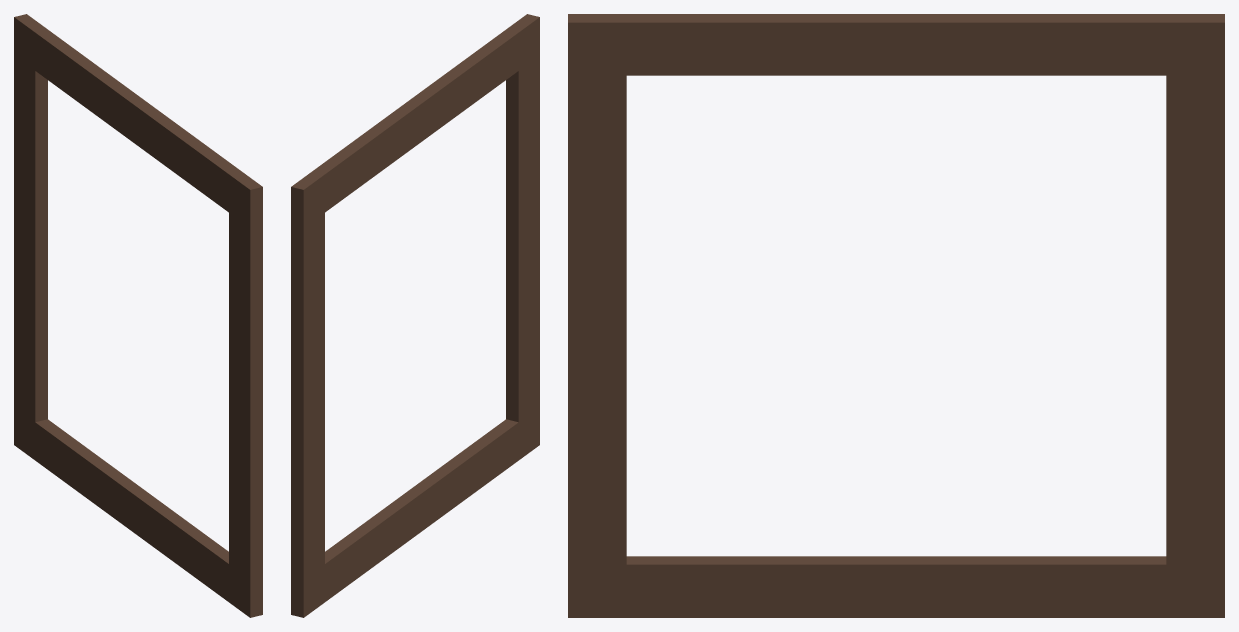
File: PictureFrame_1.fbx
The picture shows the model from 3 angles, left to right: view 1: azimuth 30°, elevation 25°; view 2: azimuth 150°, elevation 25°; view 3: azimuth 270°, elevation 25°; orthographic projection. The views are drawn at different scales.
Visible parts, largest first — view 1: pCube3; view 2: pCube3; view 3: pCube3.
Part boxes in pixels (left/top/right/bottom): pCube3: left=14, top=14, right=262, bottom=617; pCube3: left=291, top=14, right=539, bottom=617; pCube3: left=568, top=14, right=1224, bottom=617.
Size of the model in its own units: 0.000382 by 0.0124 by 0.0124.
